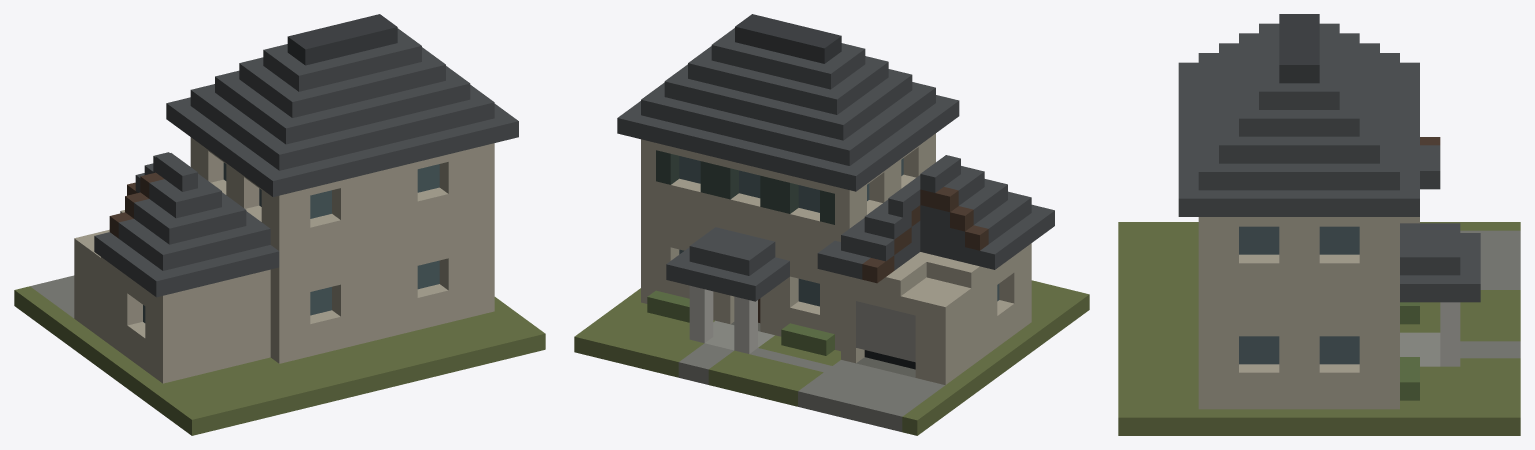
File: Claude_large_suburban_house.glb
3 renders of one model, left to right at view 1: azimuth 30°, elevation 25°; view 2: azimuth 150°, elevation 25°; view 3: azimuth 270°, elevation 25°, orthographic. The views are drawn at different scales.
Visible parts, largest first — view 1: Claude_large_suburban_house; view 2: Claude_large_suburban_house; view 3: Claude_large_suburban_house.
Part boxes in pixels (<box>): Claude_large_suburban_house: <box>14,14,545,435</box>; Claude_large_suburban_house: <box>574,14,1089,435</box>; Claude_large_suburban_house: <box>1118,14,1520,435</box>.
Bounding box in the file's own units: 11.5 × 9 × 10.
